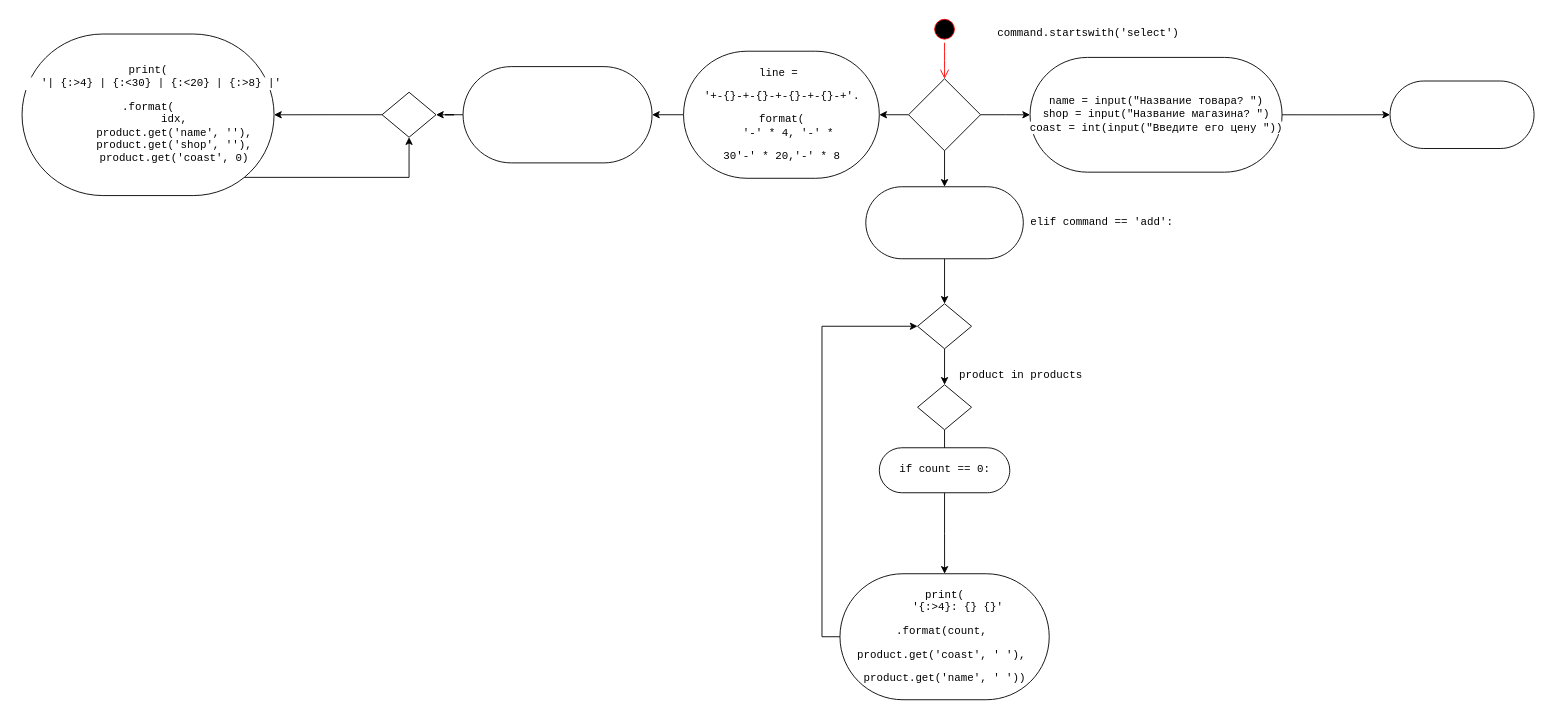
The diagram is 1550 pixels wide and 716 high, and some of its shapes have lost their labels. Each missing label, with the box of its shape:
input("Введите название интересующего магазина "): (865, 186, 1023, 259)
print(line) print( ' | {:^4} | {:^30} | {:^20} | {:^8} |' .format(: (462, 66, 652, 163)
product = { 'name': name, 'shop': shop, 'coast': coast, }: (1389, 80, 1534, 148)
